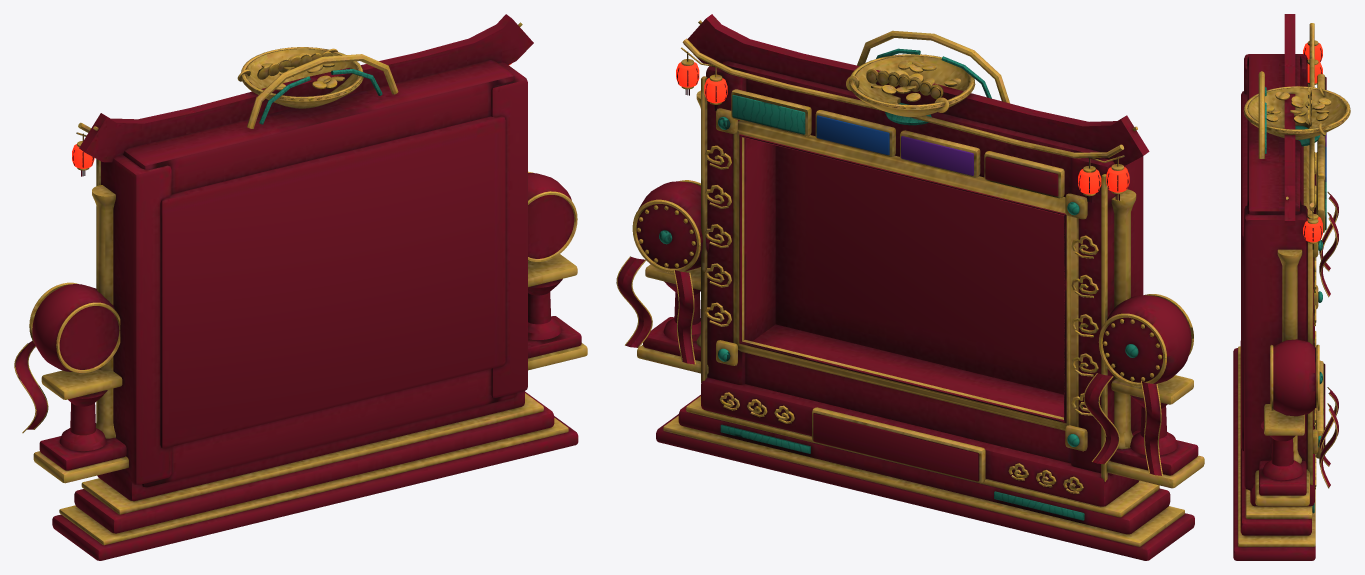
The picture shows the model from 3 angles, left to right: view 1: azimuth 30°, elevation 25°; view 2: azimuth 150°, elevation 25°; view 3: azimuth 270°, elevation 25°; orthographic projection. The views are drawn at different scales.
Visible parts, largest first — view 1: Crimson_lacquer, Warm_brushed_gold; view 2: Crimson_lacquer, Warm_brushed_gold, Jade_enamel, Scarlet_lantern_glow, Sapphire_enamel, Royal_purple_enamel; view 3: Crimson_lacquer, Warm_brushed_gold, Scarlet_lantern_glow, Jade_enamel.
Part boxes in pixels (<box>): Crimson_lacquer: <box>15,14,581,560</box>; Warm_brushed_gold: <box>14,22,587,545</box>; Crimson_lacquer: <box>617,14,1198,560</box>; Warm_brushed_gold: <box>616,20,1204,546</box>; Jade_enamel: <box>659,48,1138,520</box>; Scarlet_lantern_glow: <box>676,62,1129,194</box>; Sapphire_enamel: <box>816,115,889,155</box>; Royal_purple_enamel: <box>901,136,973,175</box>; Crimson_lacquer: <box>1233,14,1338,560</box>; Warm_brushed_gold: <box>1238,23,1350,546</box>; Scarlet_lantern_glow: <box>1303,43,1322,242</box>; Jade_enamel: <box>1265,87,1326,513</box>.
Size of the model in its own units: 11.76 by 9.2 by 2.59.
Materials: 6 (5 with a texture image).
